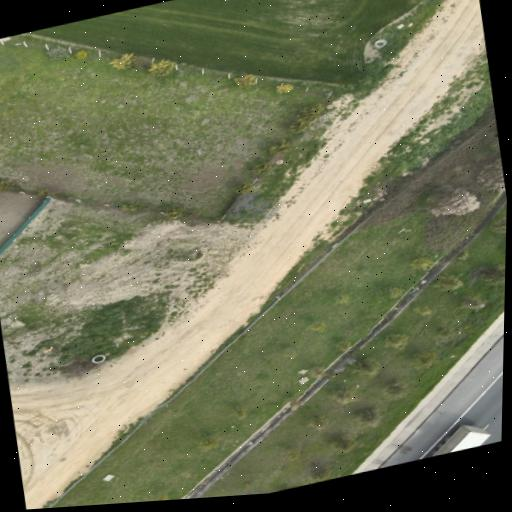truck: (431, 424, 489, 456)
